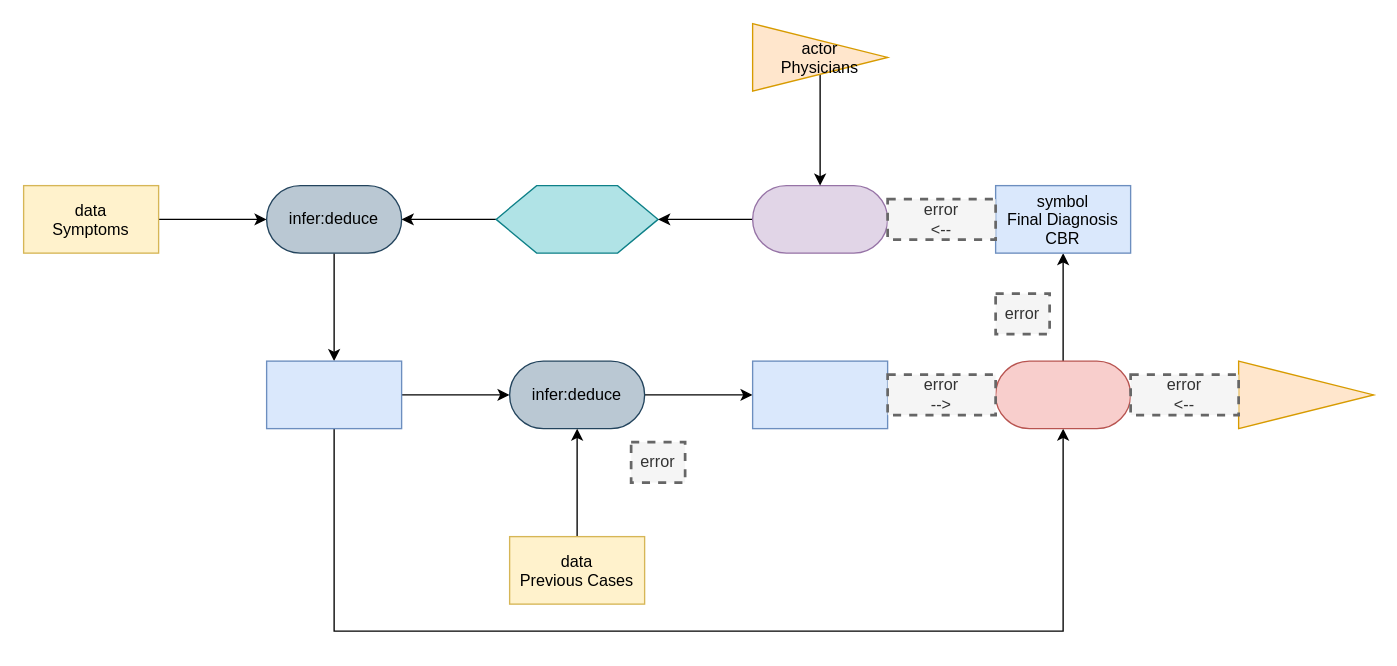
This 1397x666 diagram has some shape labels left out. Here are the shapes that lost their labels. From the top down, the centre of each, then its label:
At [576,218]: "model:static Diagnostic Rules".
At [819,218]: "generate:engineer".
At [333,394]: "symbol (Final) Diagnosis".
At [819,394]: "symbol Similarity Score".
At [1062,394]: "transform".
At [1305,394]: "actor Medical Professional".
